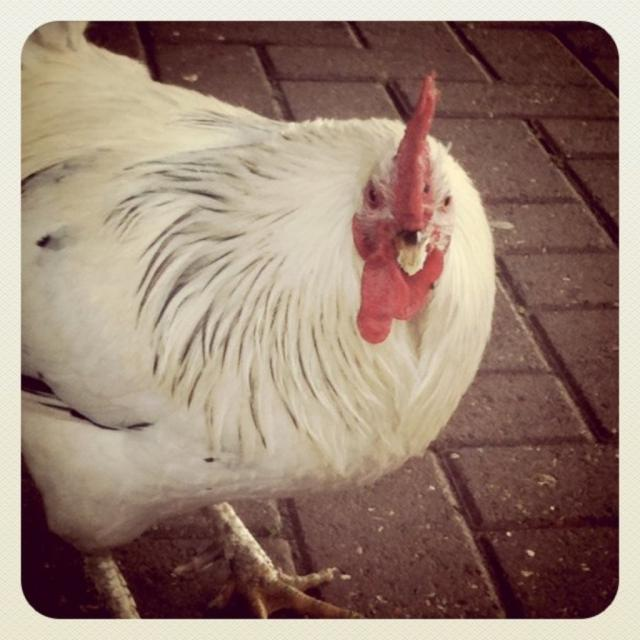Chicken: (0, 12, 496, 630)
